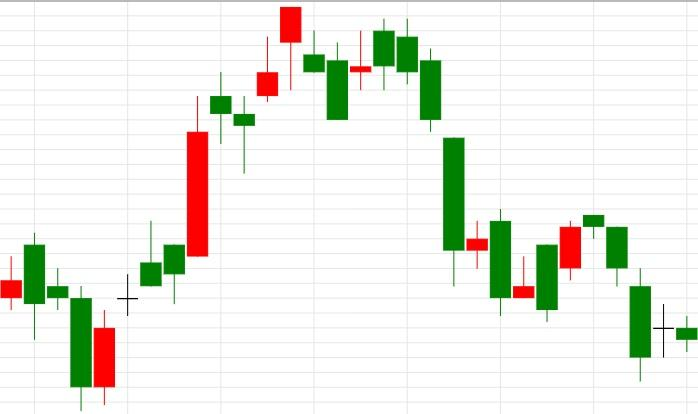three_black_crows_fall: (512, 214, 651, 382)
